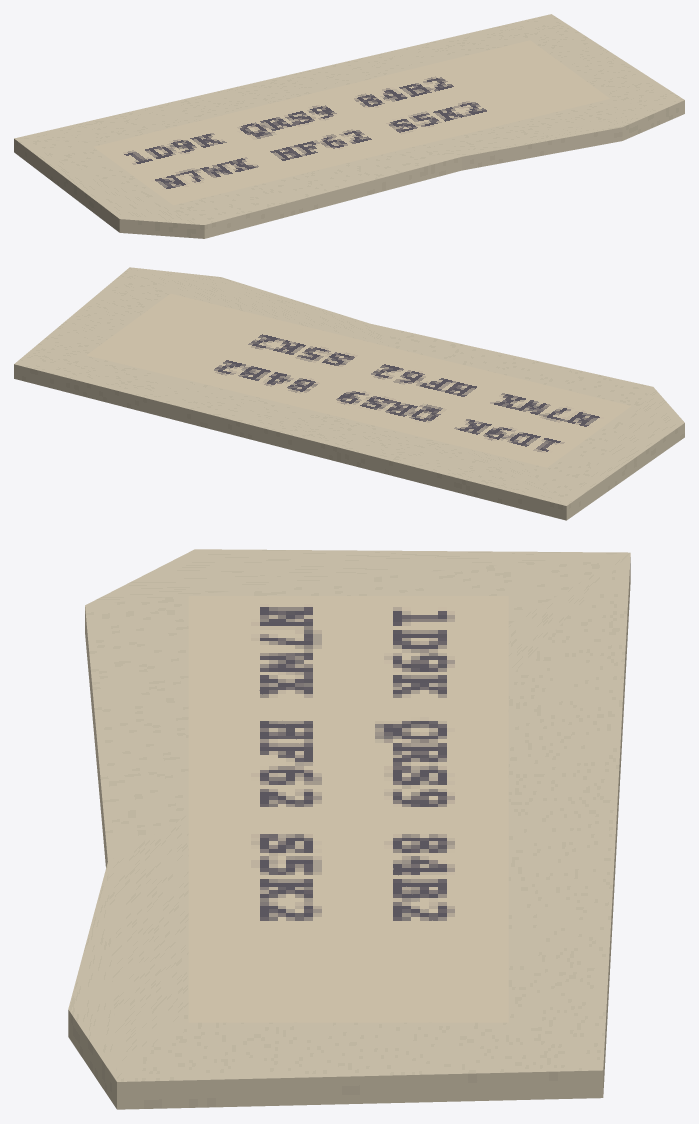
Rendered from msu14_password.glb.
3 views of the same model, one above another, from view 1: azimuth 30°, elevation 25°; view 2: azimuth 150°, elevation 25°; view 3: azimuth 270°, elevation 25° (orthographic). The views are drawn at different scales.
Parts seen in each view (by area): view 1: block_annotated scrap of paper, block_two handwritten character sequences; view 2: block_annotated scrap of paper, block_two handwritten character sequences; view 3: block_annotated scrap of paper, block_two handwritten character sequences.
Part boxes in pixels (x1,y1,x2,y2): block_annotated scrap of paper: (14,14,684,238); block_two handwritten character sequences: (93,40,609,205); block_annotated scrap of paper: (14,267,684,520); block_two handwritten character sequences: (87,293,630,467); block_annotated scrap of paper: (68,549,630,1109); block_two handwritten character sequences: (188,596,508,1022).
Size of the model in its own units: 0.0568 by 0.00158 by 0.0254.
Materials: 1 (1 with a texture image).
